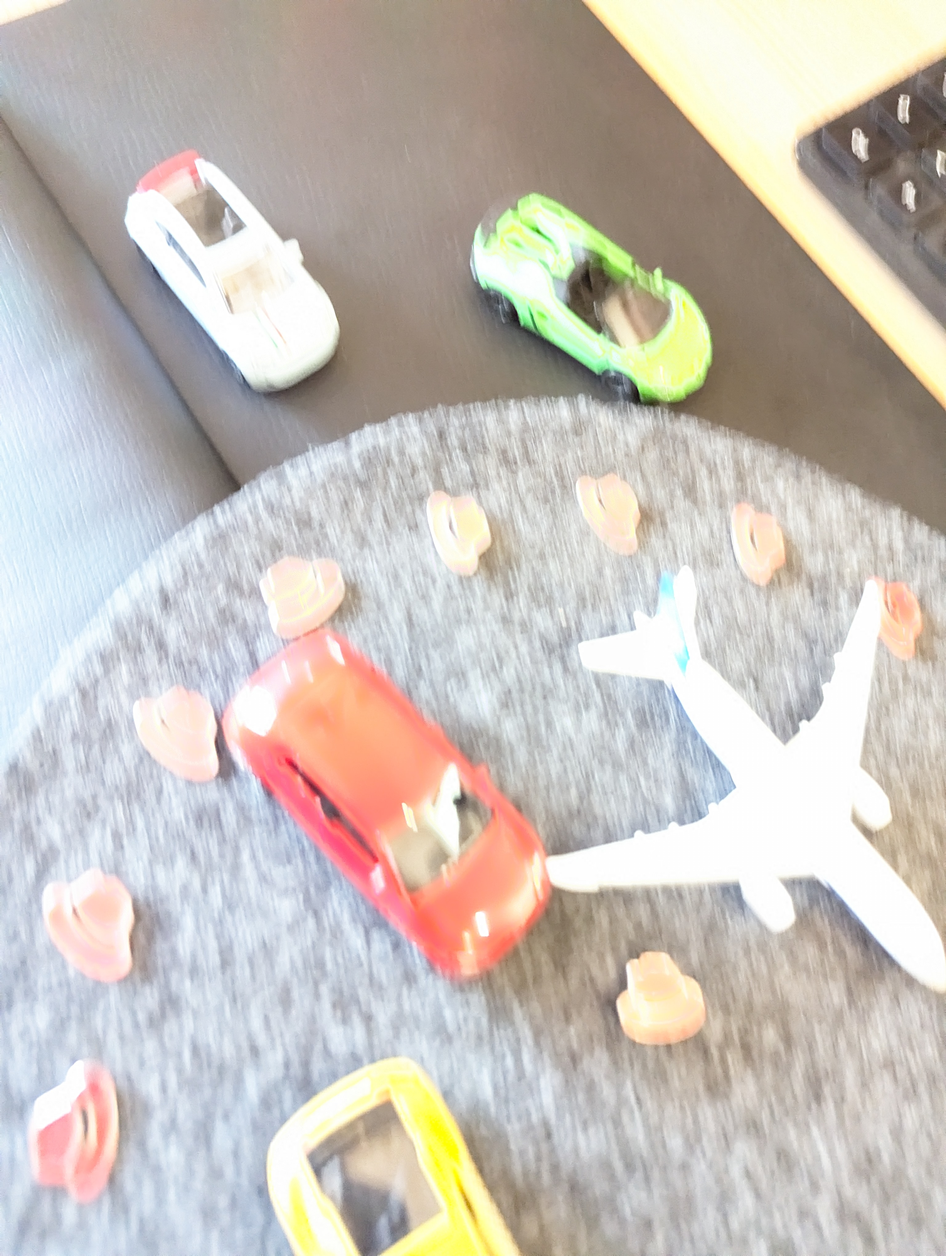Airplane: (517, 543, 946, 1006)
Car: (193, 607, 555, 1018), (92, 123, 393, 418), (456, 168, 744, 433)
Red-Hat: (1, 1039, 162, 1234), (18, 853, 172, 999), (109, 660, 230, 789), (241, 538, 372, 649), (554, 451, 668, 571), (586, 944, 718, 1047), (710, 482, 805, 605), (415, 470, 504, 586), (857, 559, 944, 664)
